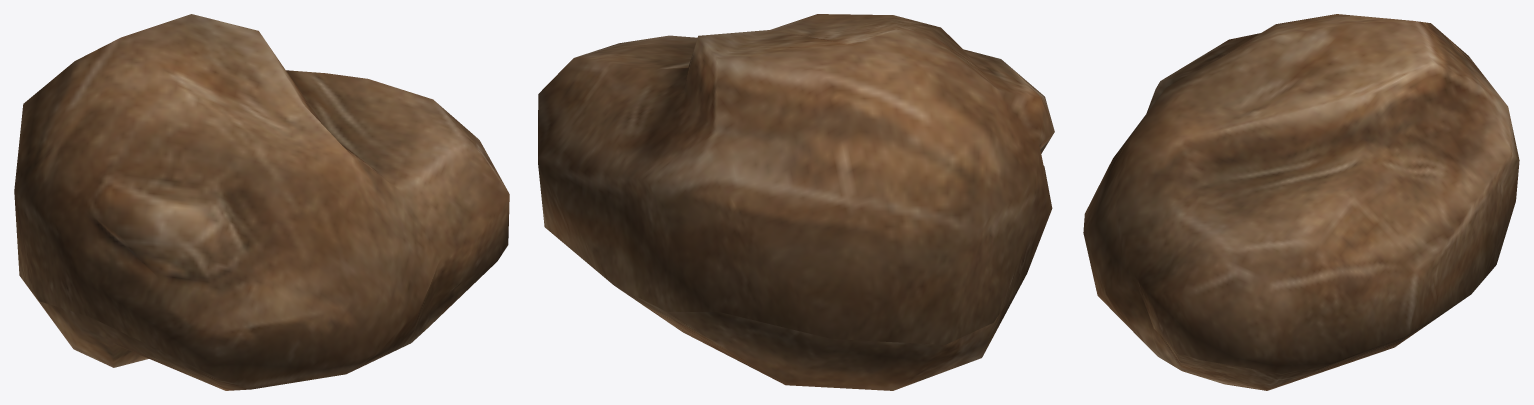
File: modelRock03.fbx
The picture shows the model from 3 angles, left to right: view 1: azimuth 30°, elevation 25°; view 2: azimuth 150°, elevation 25°; view 3: azimuth 270°, elevation 25°; orthographic projection. The views are drawn at different scales.
Parts seen in each view (by area): view 1: modelRock03; view 2: modelRock03; view 3: modelRock03.
Part boxes in pixels (bbox=[...]): modelRock03: bbox=[14, 14, 509, 390]; modelRock03: bbox=[538, 14, 1054, 390]; modelRock03: bbox=[1083, 14, 1519, 390].
Size of the model in its own units: 16.66 by 10.58 by 14.68.
